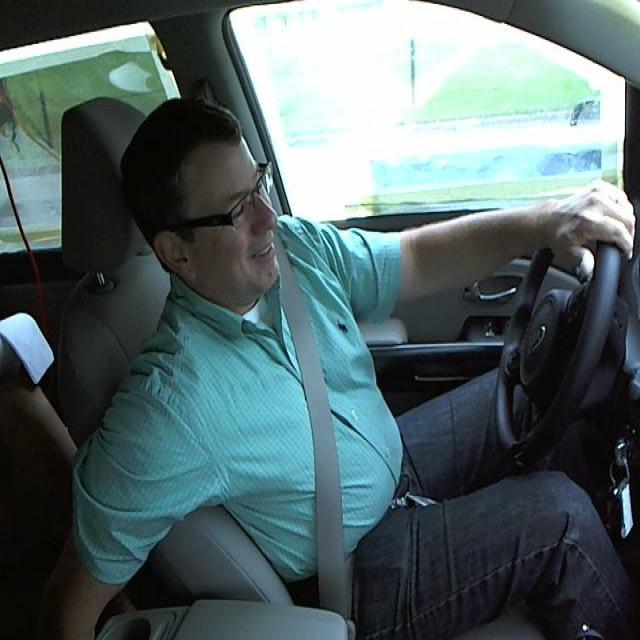seatbelt: (271, 262, 364, 630)
